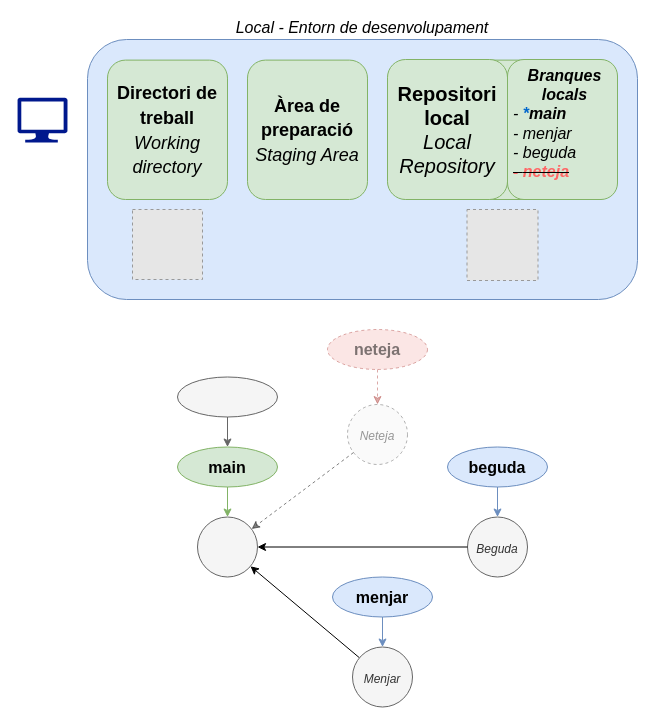
The diagram is 655 pixels wide and 724 high, and some of its shapes have lost their labels. Grey dashed boxes stand in for pictures. Here are the shapes that lost their labels. From the top down, the centre of each, then its label:
At point (227, 396): "HEAD".
At point (227, 546): "Commit inicial".
